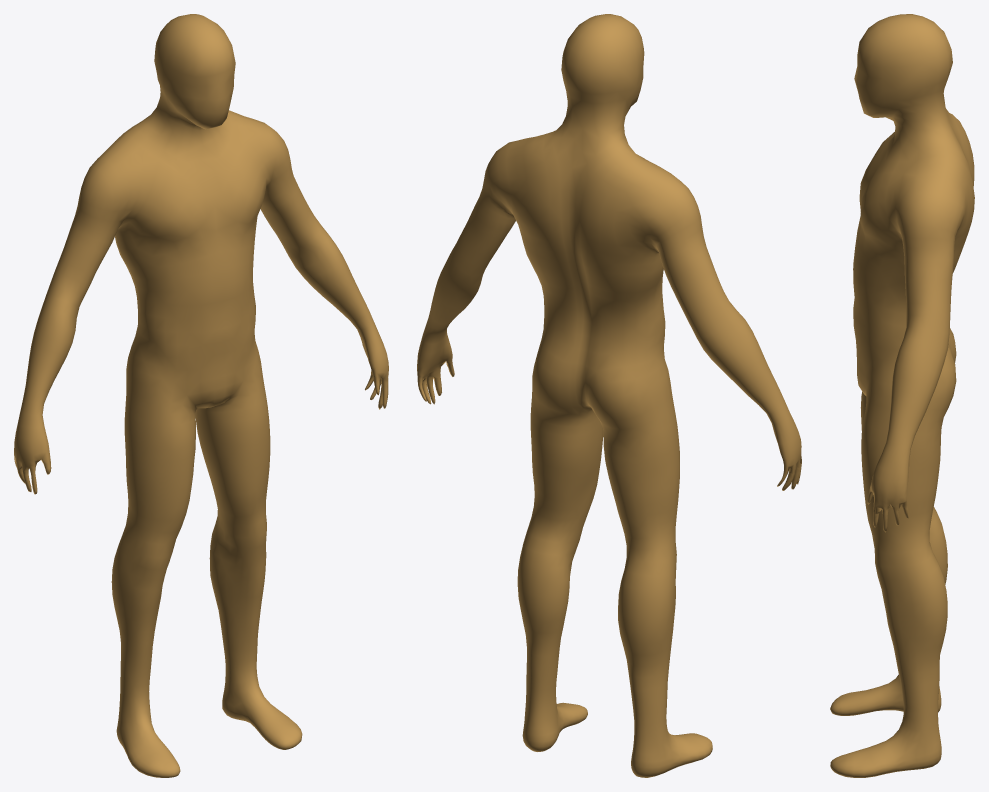
File: ClothesCharacter.fbx
3 renders of one model, left to right at view 1: azimuth 30°, elevation 25°; view 2: azimuth 150°, elevation 25°; view 3: azimuth 270°, elevation 25°, orthographic. The views are drawn at different scales.
Parts seen in each view (by area): view 1: Male low poly; view 2: Male low poly; view 3: Male low poly.
Part boxes in pixels (<box>): Male low poly: <box>14,14,388,777</box>; Male low poly: <box>417,14,801,777</box>; Male low poly: <box>830,14,974,777</box>.
Size of the model in its own units: 375 by 702 by 127.
